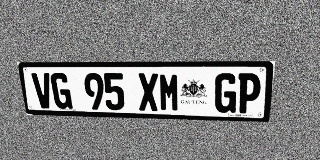5: (103, 73, 125, 110)
9: (83, 73, 106, 110)
G: (214, 73, 238, 113), (50, 73, 73, 109)
M: (159, 73, 180, 112)
P: (236, 73, 262, 114)
V: (31, 73, 54, 109)
X: (137, 73, 159, 111)
